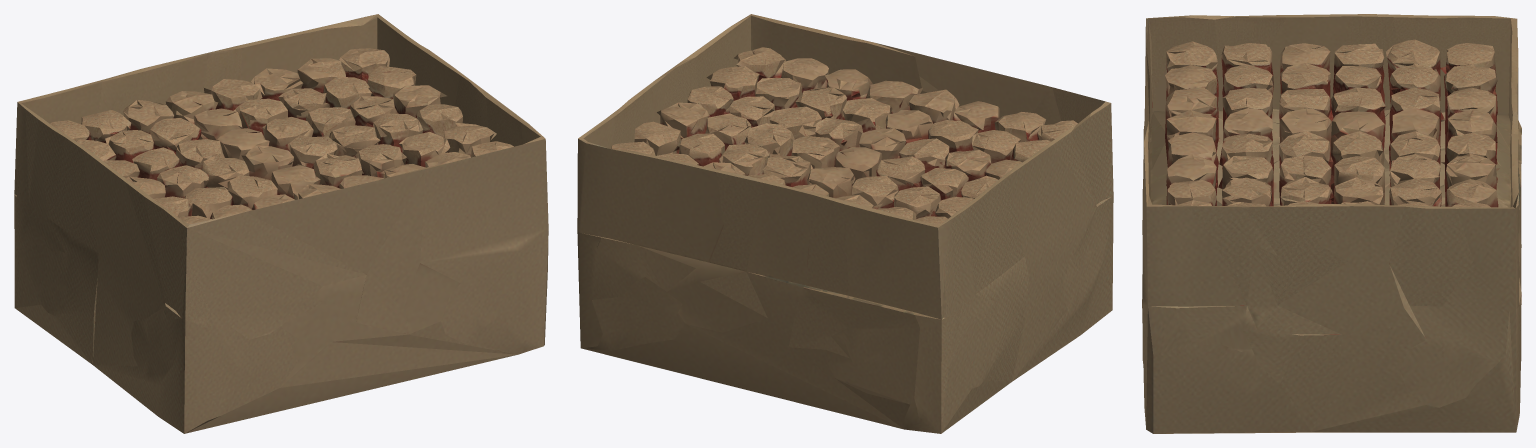
File: firework_battery_90.glb
The picture shows the model from 3 angles, left to right: view 1: azimuth 30°, elevation 25°; view 2: azimuth 150°, elevation 25°; view 3: azimuth 270°, elevation 25°; orthographic projection. The views are drawn at different scales.
Size of the model in its own units: 1.9 by 1.05 by 1.56.
Materials: 1 (1 with a texture image).
